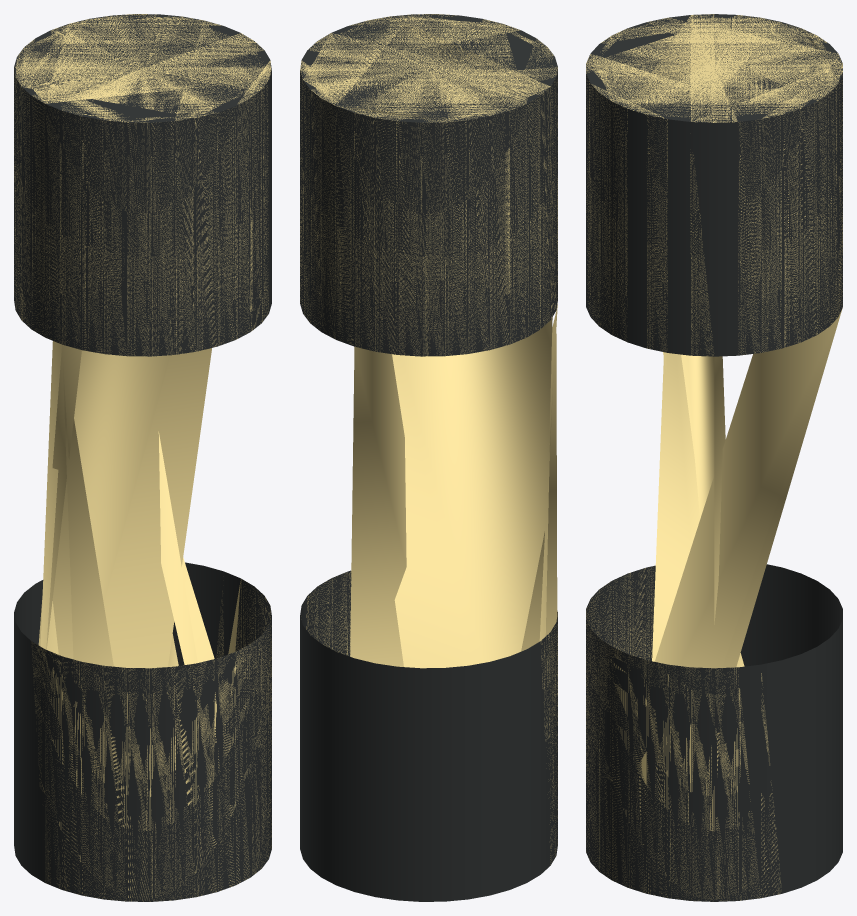
File: rarm_link4.dae
3 renders of one model, left to right at view 1: azimuth 30°, elevation 25°; view 2: azimuth 150°, elevation 25°; view 3: azimuth 270°, elevation 25°, orthographic.
Visible parts, largest first — view 1: node0, node1, node2; view 2: node0, node1, node2; view 3: node0, node1, node2.
Part boxes in pixels (x1,y1,x2,y2): node0: (14,14,271,901); node1: (16,14,271,901); node2: (14,14,269,668); node0: (300,14,557,901); node1: (300,14,557,864); node2: (300,14,557,668); node0: (586,14,842,901); node1: (586,15,842,901); node2: (586,14,842,624).
Size of the model in its own units: 0.015 by 0.05 by 0.0149.
